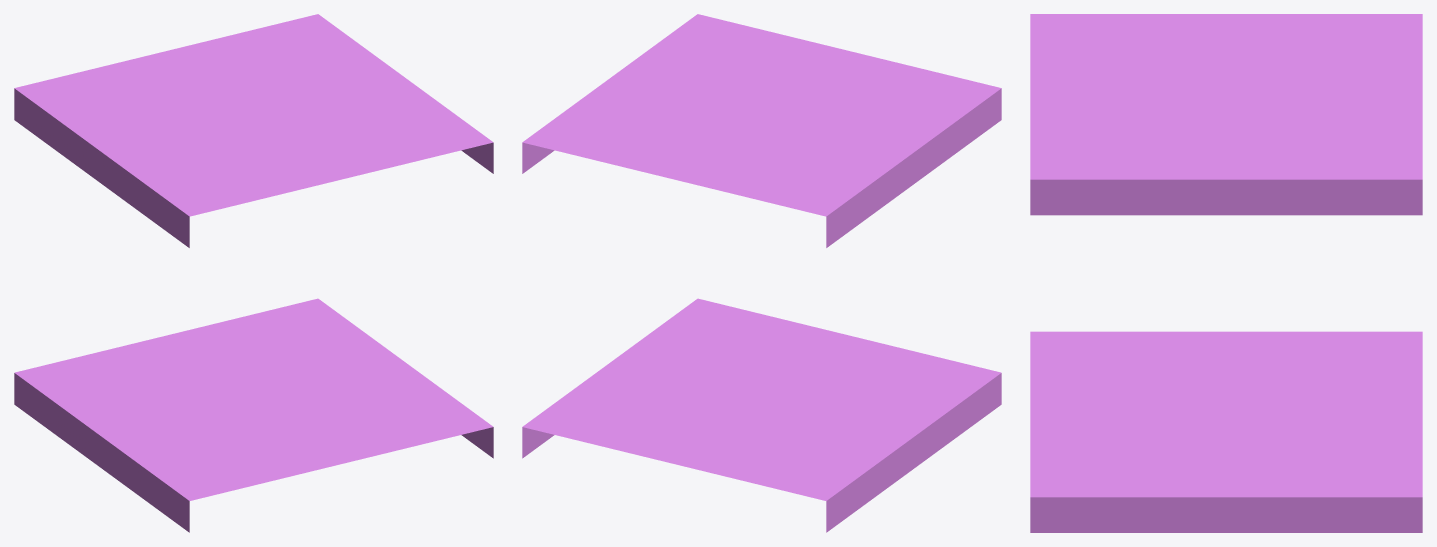
File: CintaOruga.FBX
3 views of the same model, side by side, from view 1: azimuth 30°, elevation 25°; view 2: azimuth 150°, elevation 25°; view 3: azimuth 270°, elevation 25° (orthographic). The views are drawn at different scales.
Visible parts, largest first — view 1: Box002; view 2: Box002; view 3: Box002.
Boxes of the visible parts, box(x1,y1,x2,y2) form: Box002: box(14, 14, 493, 532); Box002: box(522, 14, 1001, 532); Box002: box(1030, 14, 1422, 532).
Bounding box in the file's own units: 100 × 99.42 × 100.
